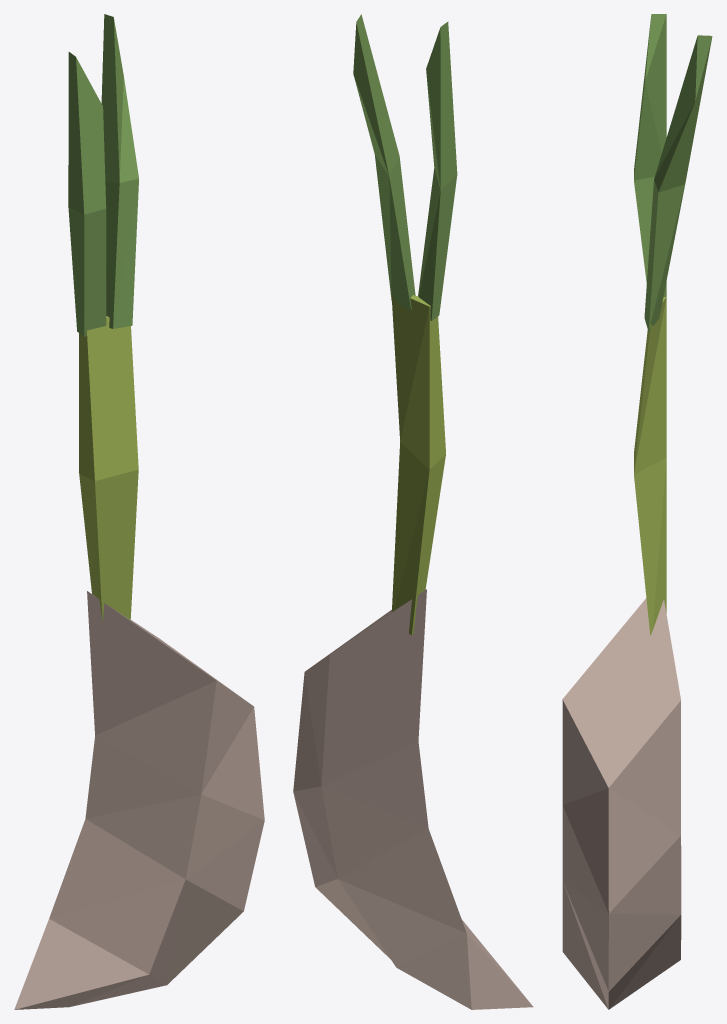
The model's file is Garlic_0.fbx.
3 views of the same model, side by side, from view 1: azimuth 30°, elevation 25°; view 2: azimuth 150°, elevation 25°; view 3: azimuth 270°, elevation 25° (orthographic). The views are drawn at different scales.
Parts seen in each view (by area): view 1: Garlic_0; view 2: Garlic_0; view 3: Garlic_0.
Part boxes in pixels (left/top/right/bottom): Garlic_0: left=14, top=14, right=264, bottom=1009; Garlic_0: left=293, top=14, right=533, bottom=1009; Garlic_0: left=562, top=14, right=712, bottom=1009.
Bounding box in the file's own units: 5.11 × 19.3 × 2.68.
